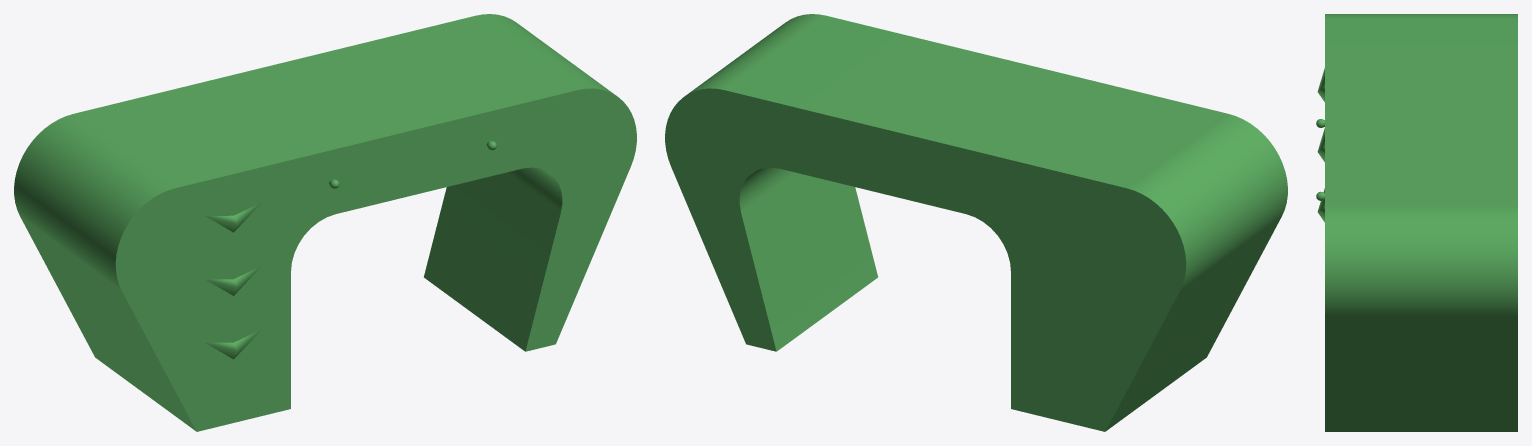
File: SM_VanityDresser_01j.fbx
The picture shows the model from 3 angles, left to right: view 1: azimuth 30°, elevation 25°; view 2: azimuth 150°, elevation 25°; view 3: azimuth 270°, elevation 25°; orthographic projection. The views are drawn at different scales.
Visible parts, largest first — view 1: SM_VanityDresser_01j; view 2: SM_VanityDresser_01j; view 3: SM_VanityDresser_01j.
Boxes of the visible parts, bbox=[...] form: SM_VanityDresser_01j: bbox=[14, 14, 636, 431]; SM_VanityDresser_01j: bbox=[665, 14, 1287, 431]; SM_VanityDresser_01j: bbox=[1316, 14, 1517, 431].
Bounding box in the file's own units: 5.75 × 2.62 × 2.03.
